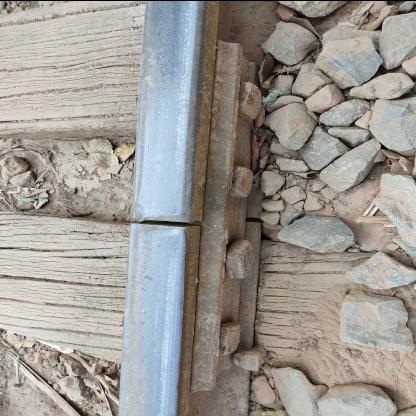Non Defective: (201, 31, 283, 385), (112, 183, 216, 261)
